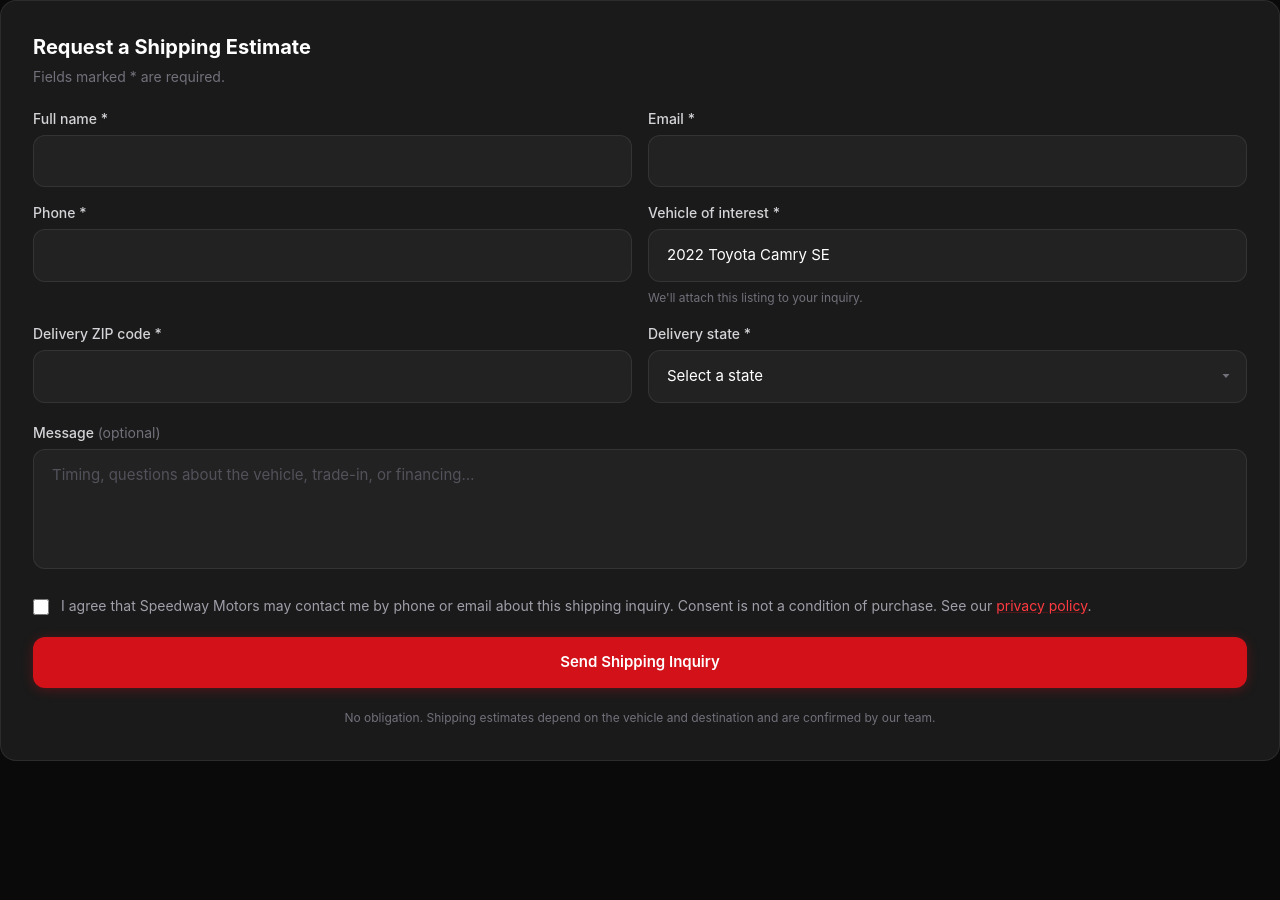
it: shipping inquiry form › surfaces server-side field errors
In the field labelled "Full name *": (332, 161) [33,135,632,187], type "Jordan Rivera"
In the field labelled "Email *": (948, 161) [648,135,1247,187], type "jordan@example.com"
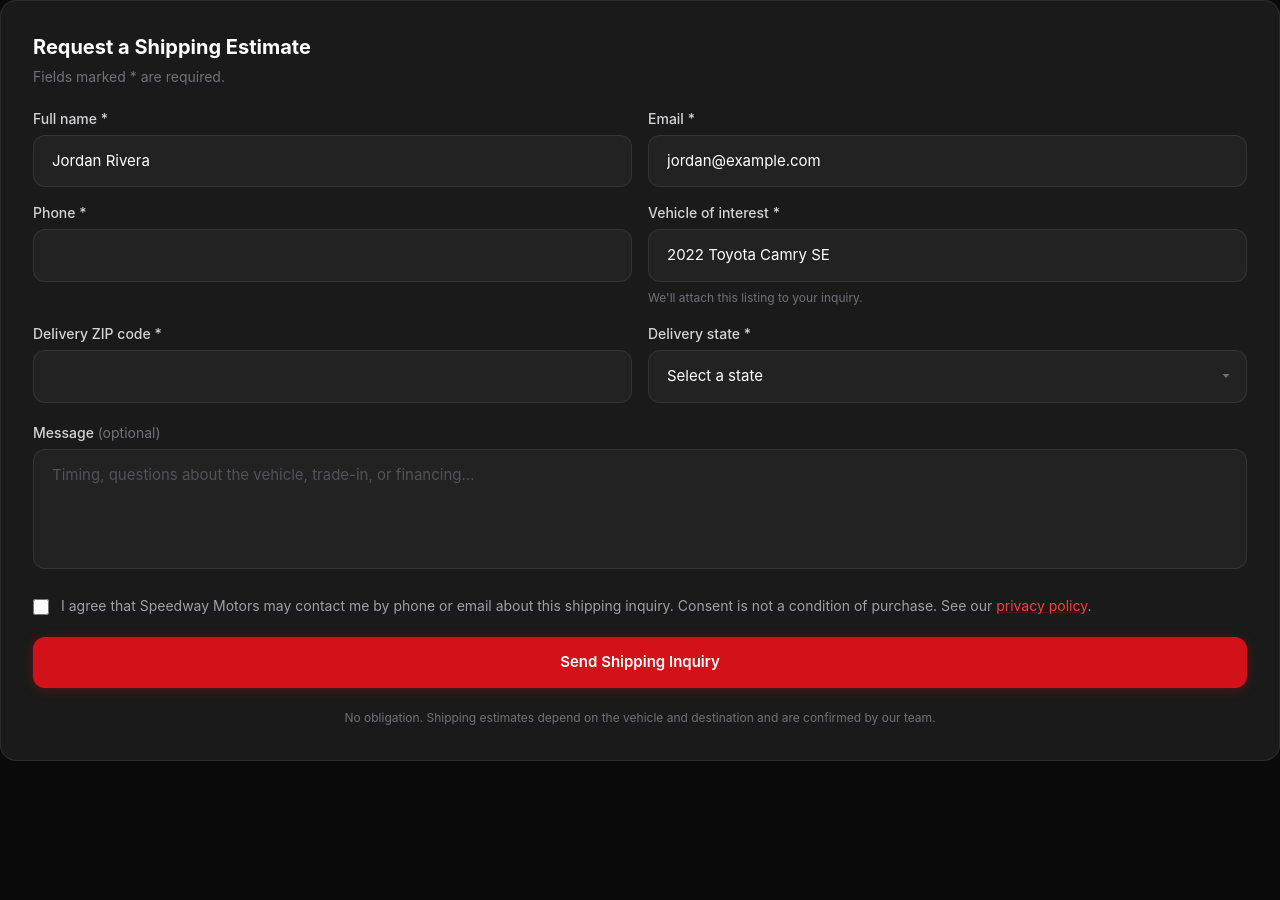
In the field labelled "Phone *": (332, 256) [33,229,632,282], type "5551234567"
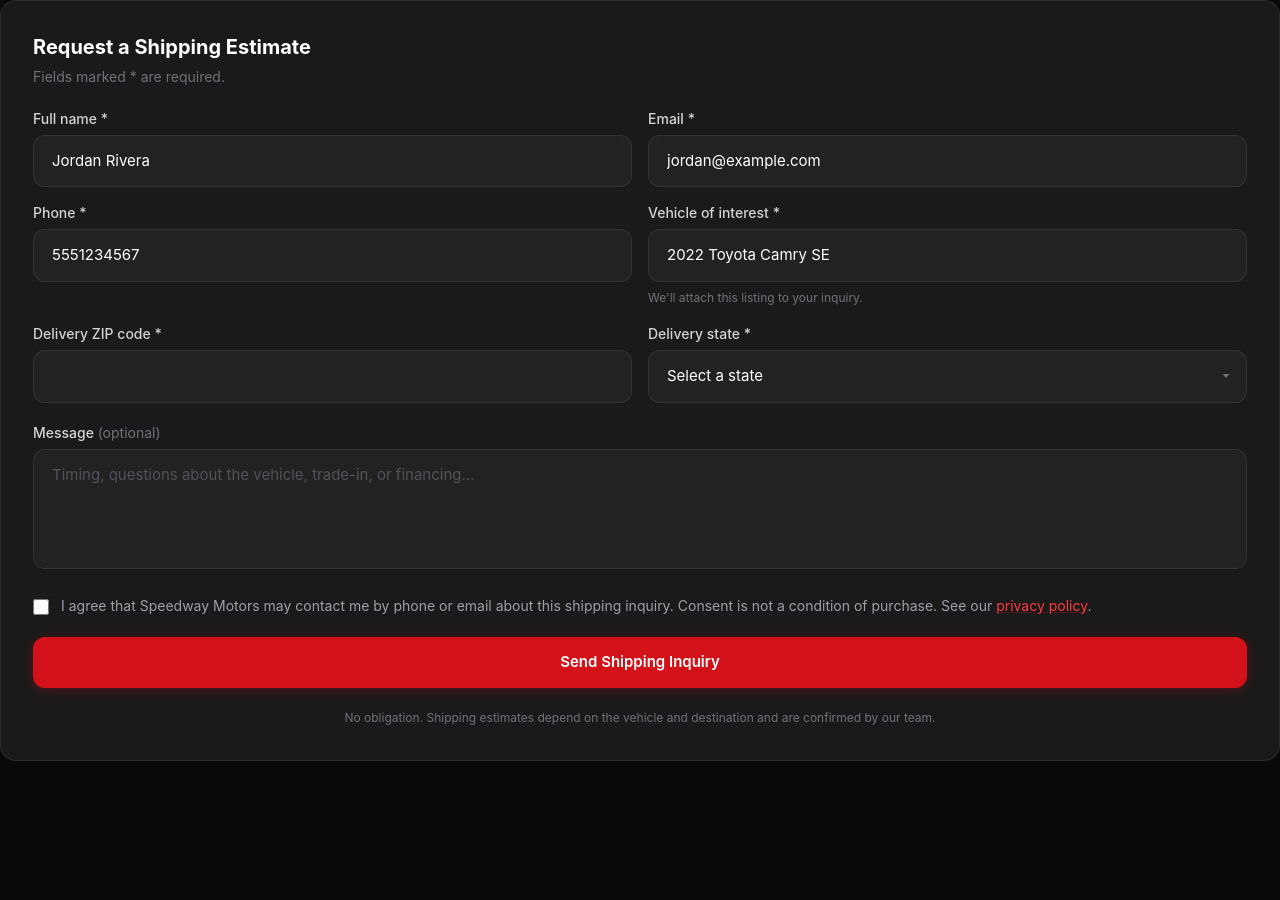
In the field labelled "Delivery ZIP code *": (332, 376) [33,350,632,403], type "30301"
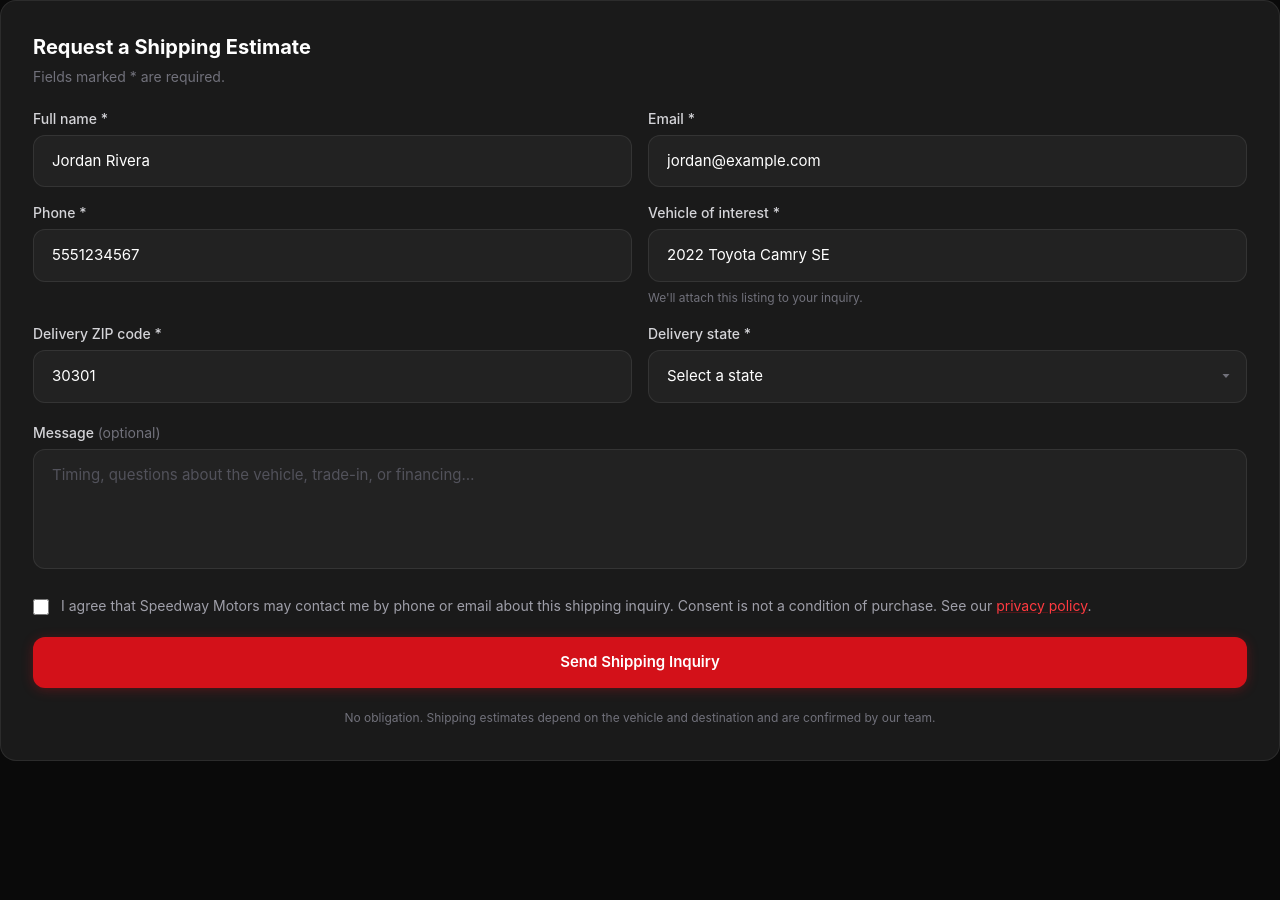
Select "Georgia" in the dropdown labelled "Delivery state *": (948, 376) [648,350,1247,403]
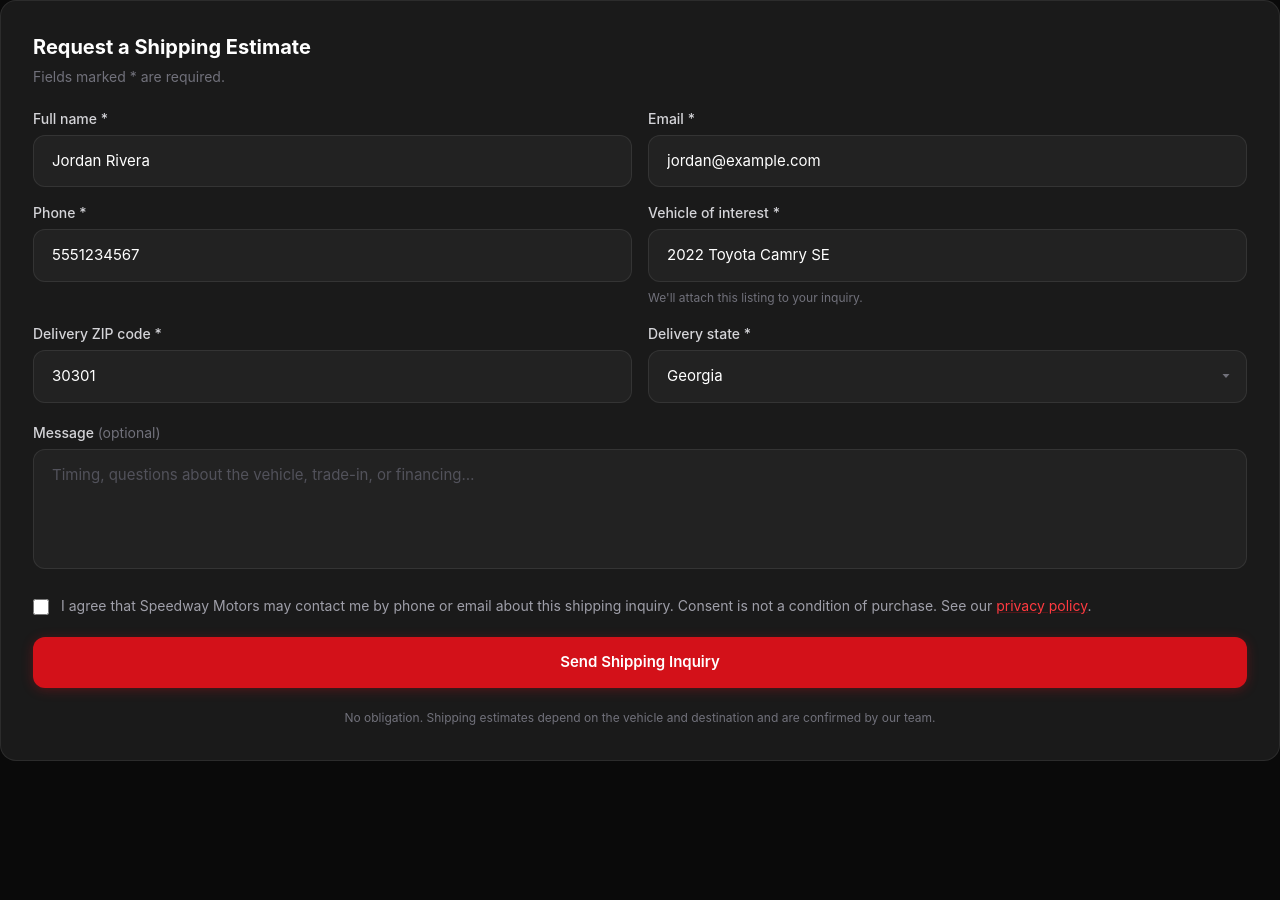
Click the checkbox labelled "I agree": (41, 607) [33,599,49,615]
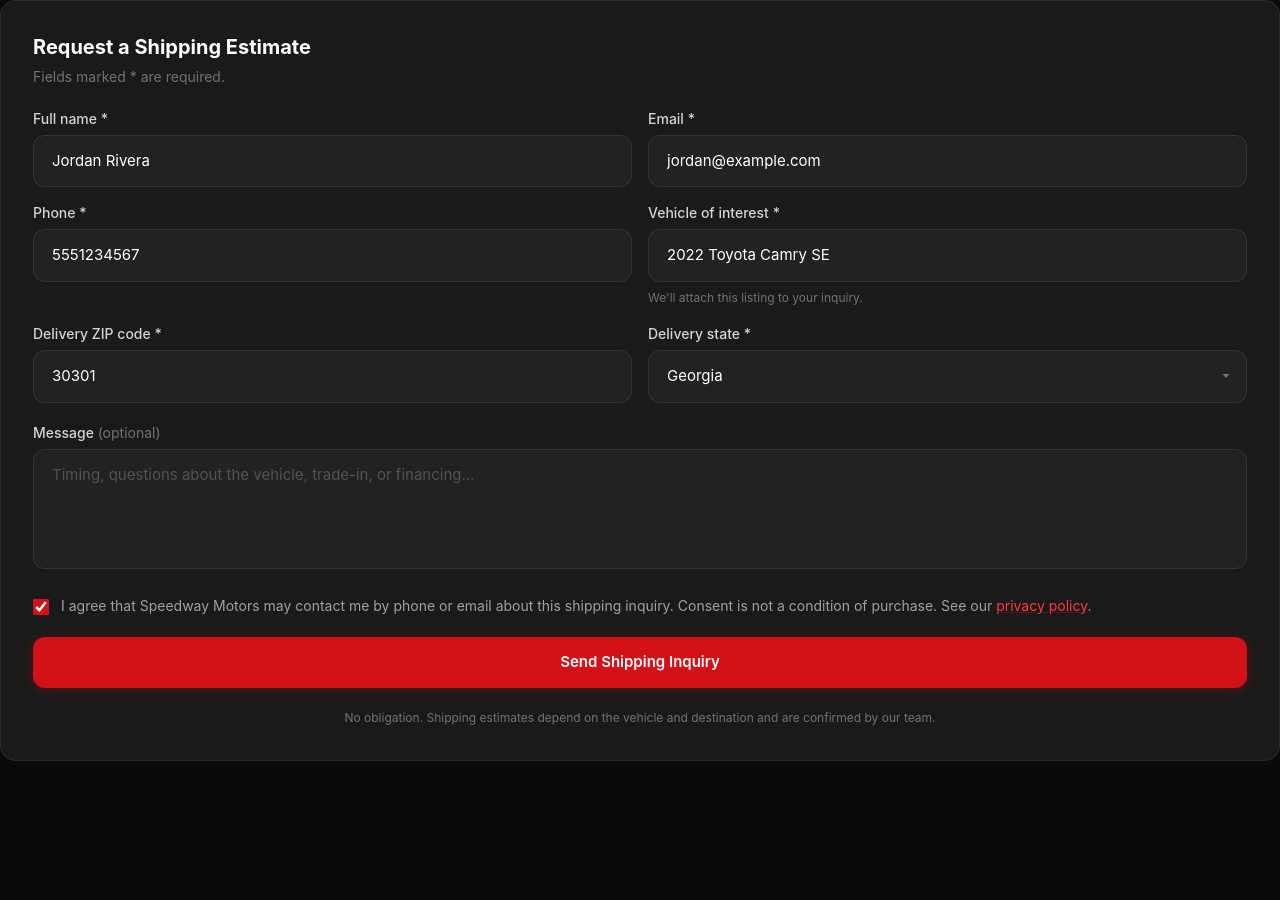
Click the button "Send Shipping Inquiry": (640, 663) [33,637,1247,688]
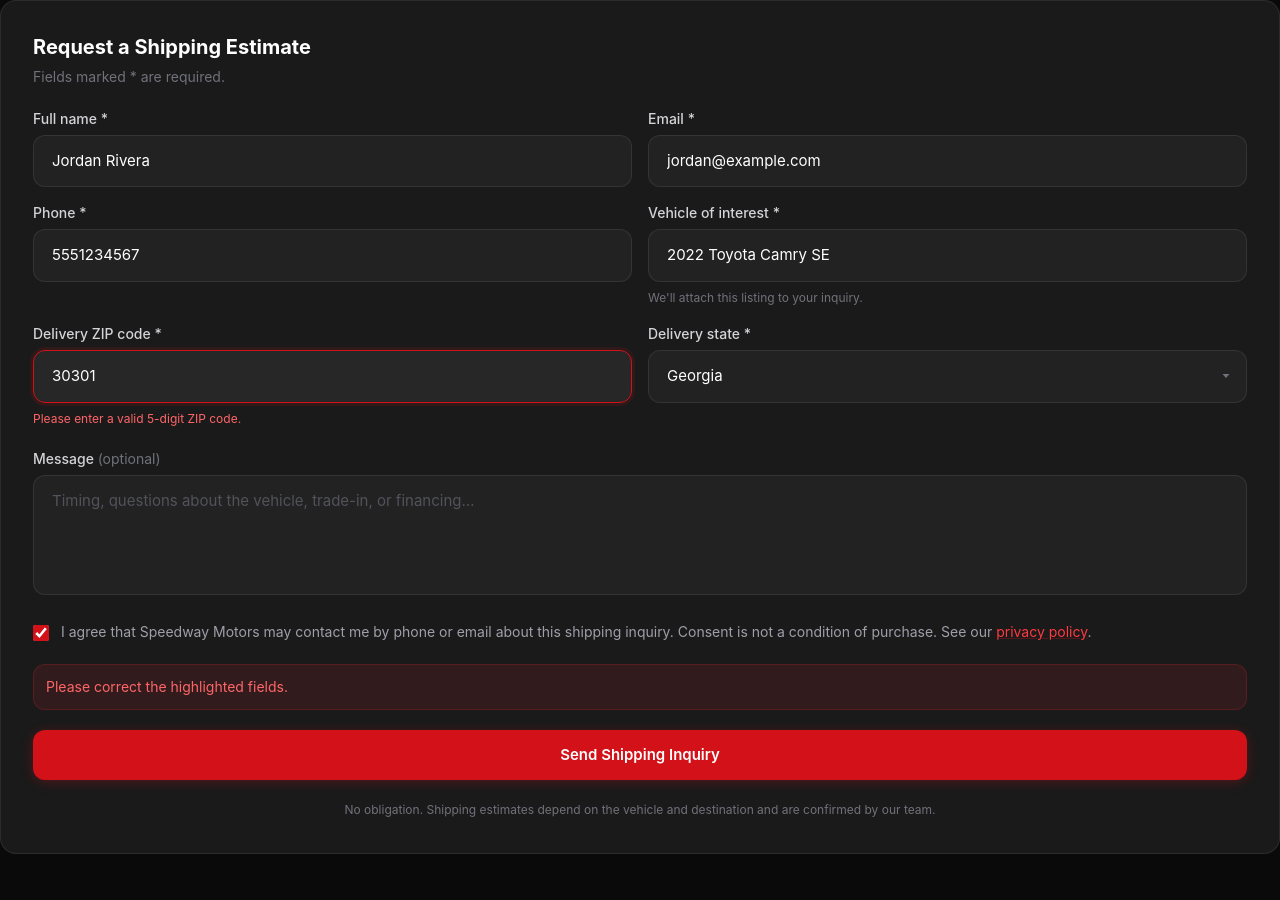
Expected: the message reads "Please correct the highlighted fields.", [46,678,288,695]
Expected: the text "Please enter a valid 5-digit ZIP code." is shown, [33,411,241,426]
